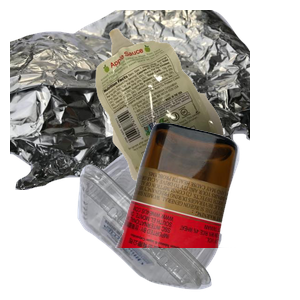glass: (113, 120, 300, 300)
metal: (10, 10, 250, 190)
plastic: (75, 147, 289, 300)
trash: (93, 26, 300, 200)
